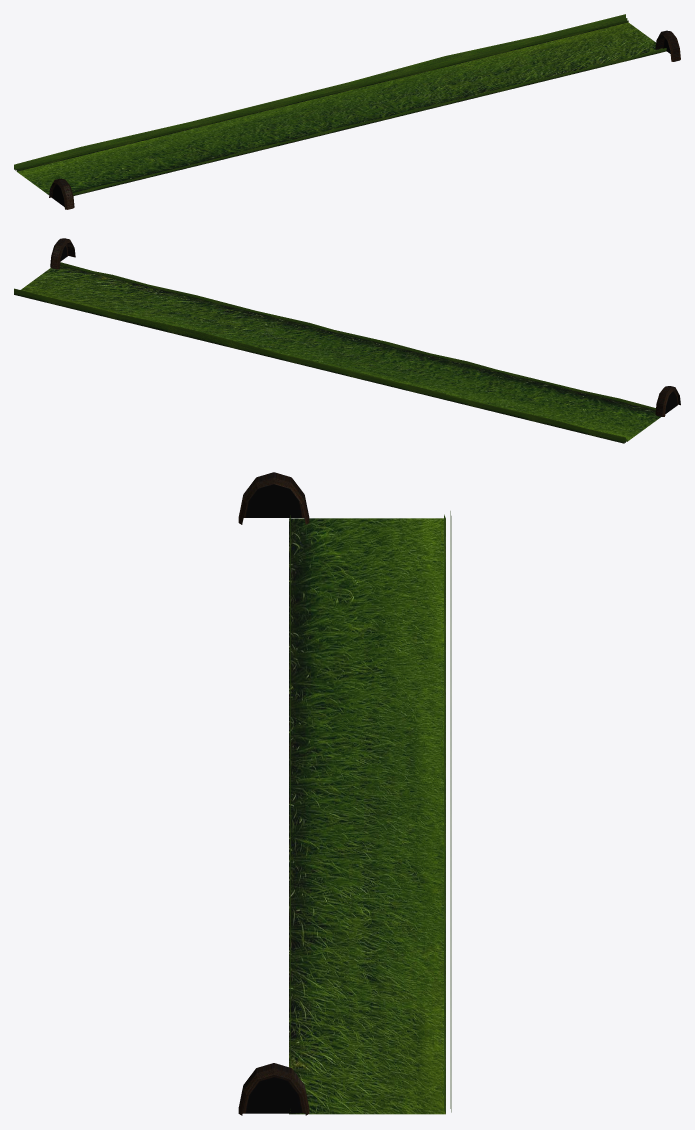
File: tanbo1.obj
The picture shows the model from 3 angles, top to bottom: view 1: azimuth 30°, elevation 25°; view 2: azimuth 150°, elevation 25°; view 3: azimuth 270°, elevation 25°; orthographic projection. The views are drawn at different scales.
Bounding box in the file's own units: 122 × 4.34 × 18.73.
Materials: 1 (1 with a texture image).
